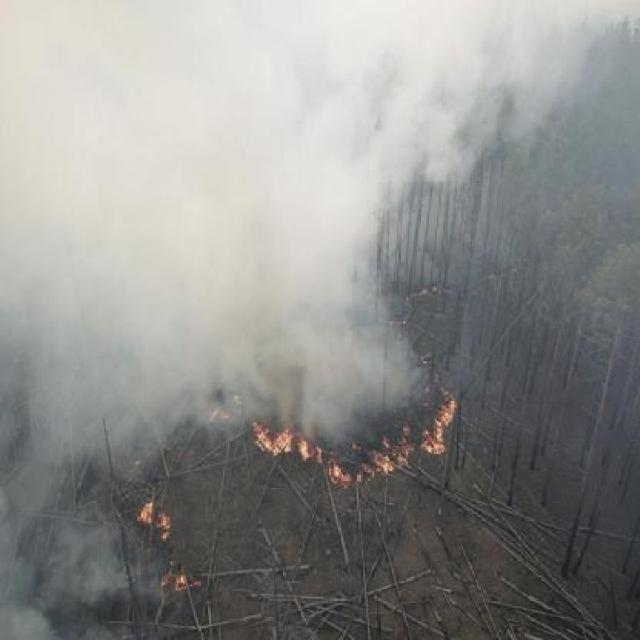Fire: (424, 392, 456, 450), (373, 438, 412, 473), (252, 426, 294, 456), (328, 456, 350, 484), (294, 434, 312, 460), (157, 512, 171, 540), (136, 503, 153, 525)
